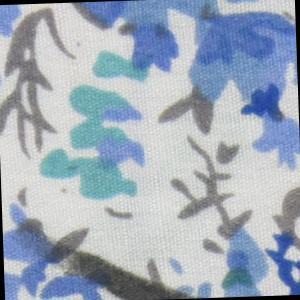Stain: (50, 233, 201, 300)
